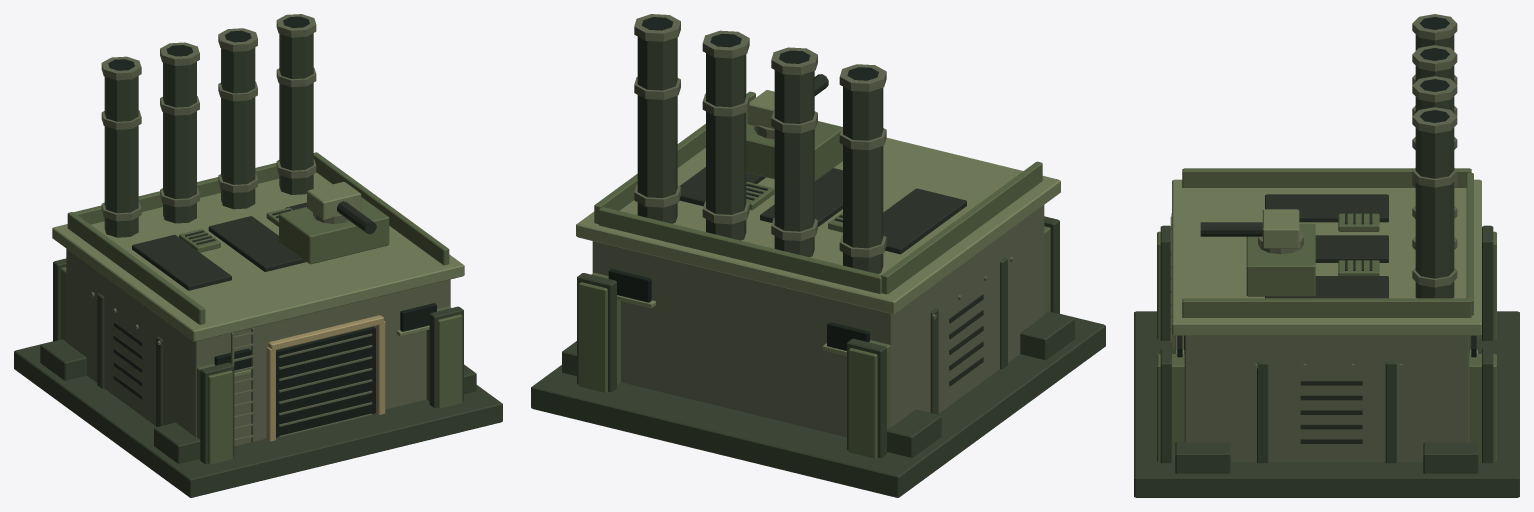
The model's file is military_field_props.glb.
3 renders of one model, left to right at view 1: azimuth 30°, elevation 25°; view 2: azimuth 150°, elevation 25°; view 3: azimuth 270°, elevation 25°, orthographic. The views are drawn at different scales.
Visible parts, largest first — view 1: Fortification; view 2: Fortification; view 3: Fortification.
Part boxes in pixels (bbox=[...]): Fortification: bbox=[14, 14, 502, 497]; Fortification: bbox=[531, 14, 1105, 497]; Fortification: bbox=[1134, 14, 1519, 497].
Size of the model in its own units: 9.03 by 8.74 by 8.82.
Materials: 1 (1 with a texture image).
